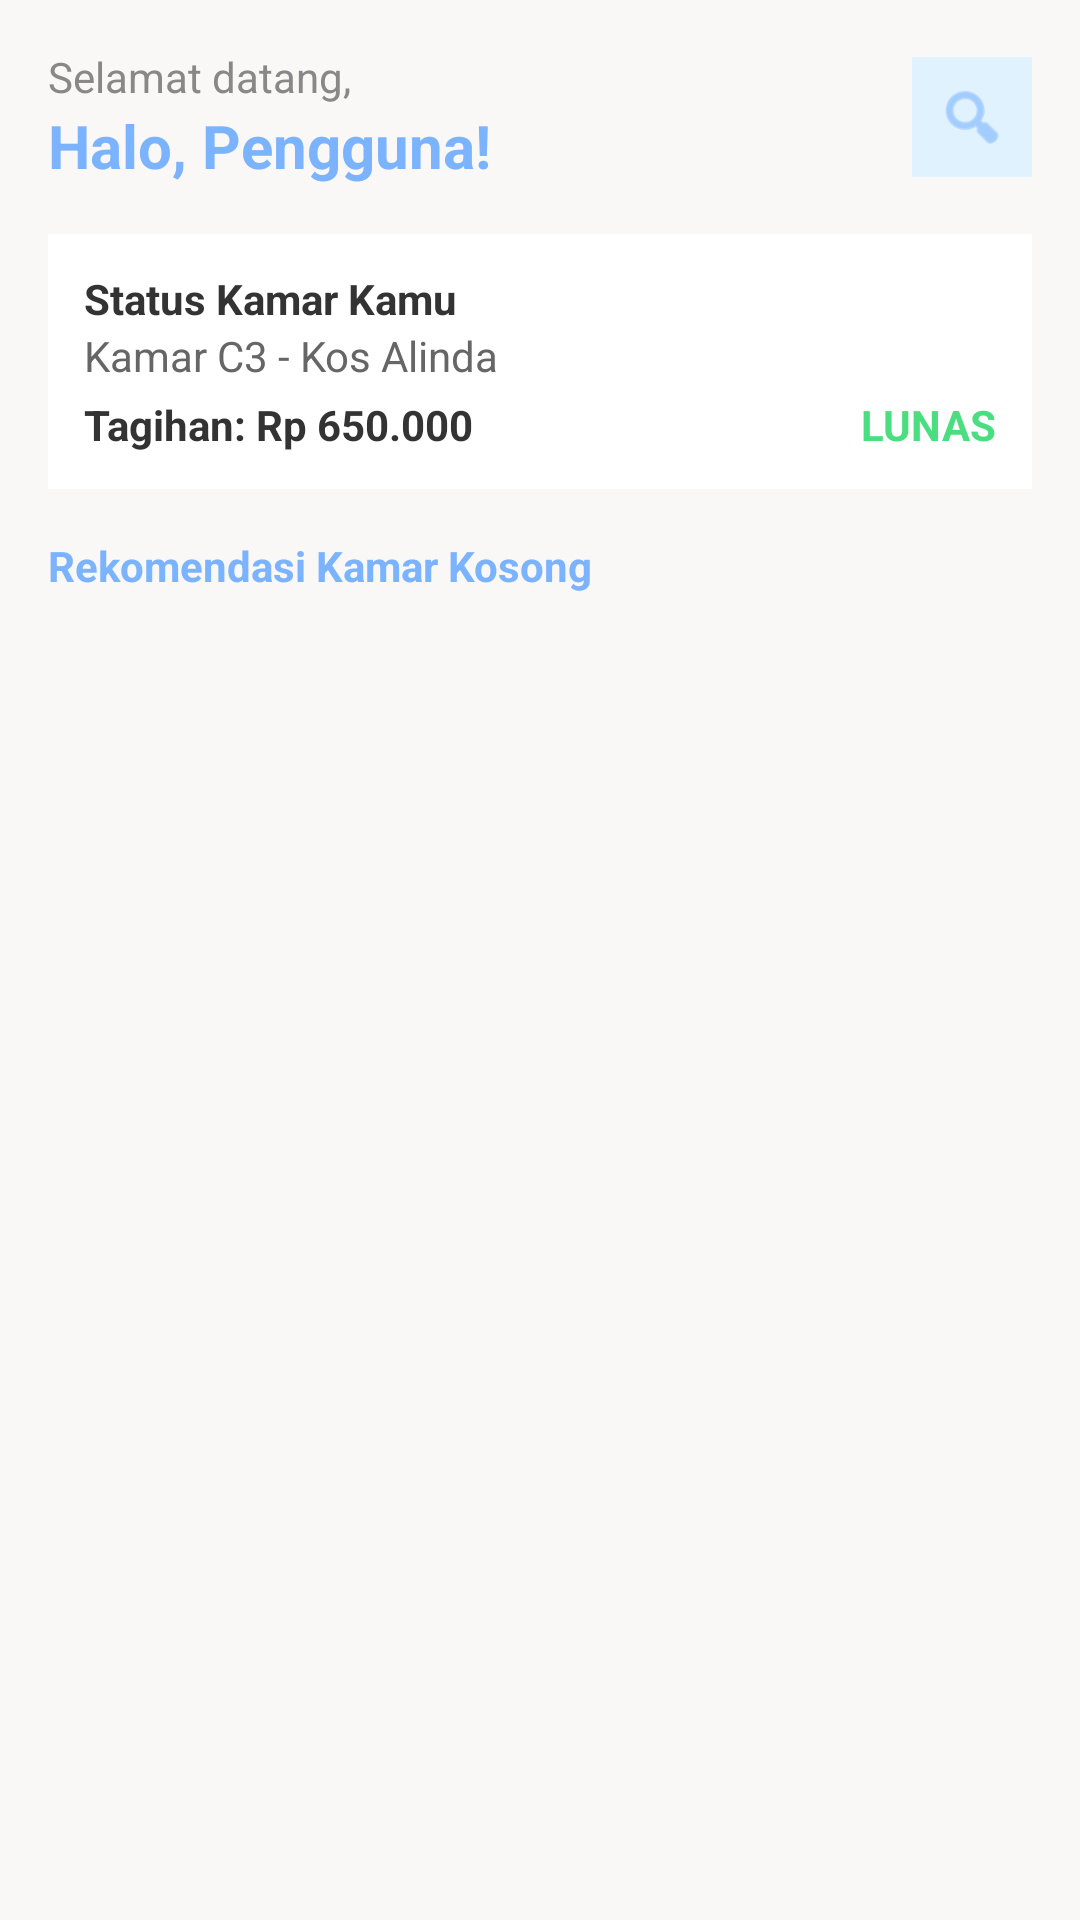

Named icons in this screenshot (1080*1920) and their bounding boxes, (x1, y1, x2, y2):
search: (912, 57, 1032, 177)
